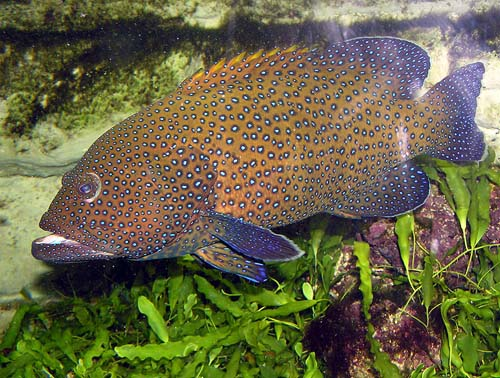fish: (32, 35, 486, 284)
